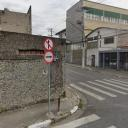NoSeguir: (43, 38, 54, 50)
